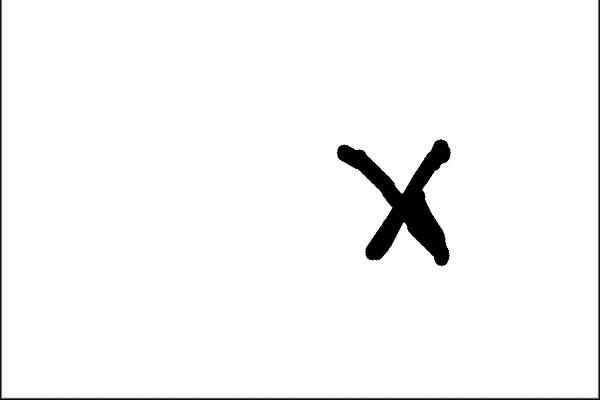X: (316, 113, 479, 284)
